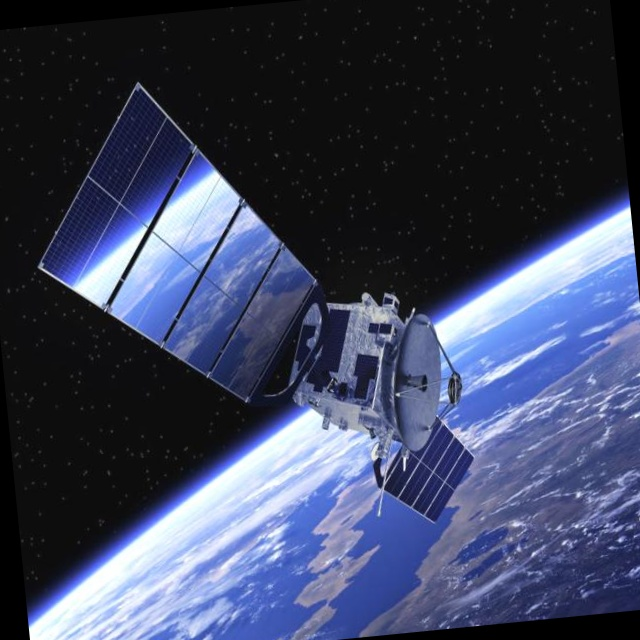satellite: (19, 39, 483, 572)
